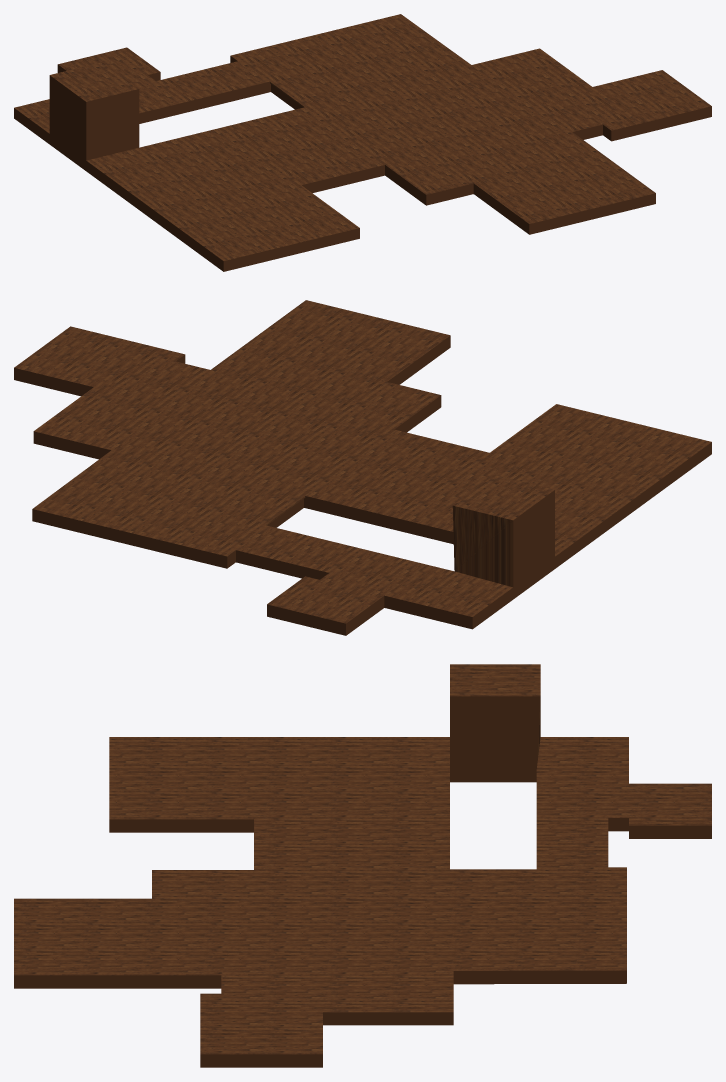
File: SM_leaklighttest_DELETEtopo_III_TRi.fbx
3 views of the same model, one above another, from view 1: azimuth 30°, elevation 25°; view 2: azimuth 150°, elevation 25°; view 3: azimuth 270°, elevation 25° (orthographic). The views are drawn at different scales.
Visible parts, largest first — view 1: Middle_floorandroof.002; view 2: Middle_floorandroof.002; view 3: Middle_floorandroof.002.
Boxes of the visible parts, x1,y1,x2,y2 form: Middle_floorandroof.002: (14, 14, 711, 271); Middle_floorandroof.002: (14, 300, 711, 635); Middle_floorandroof.002: (14, 664, 711, 1067).
Size of the model in its own units: 2432 by 2260 by 307.
